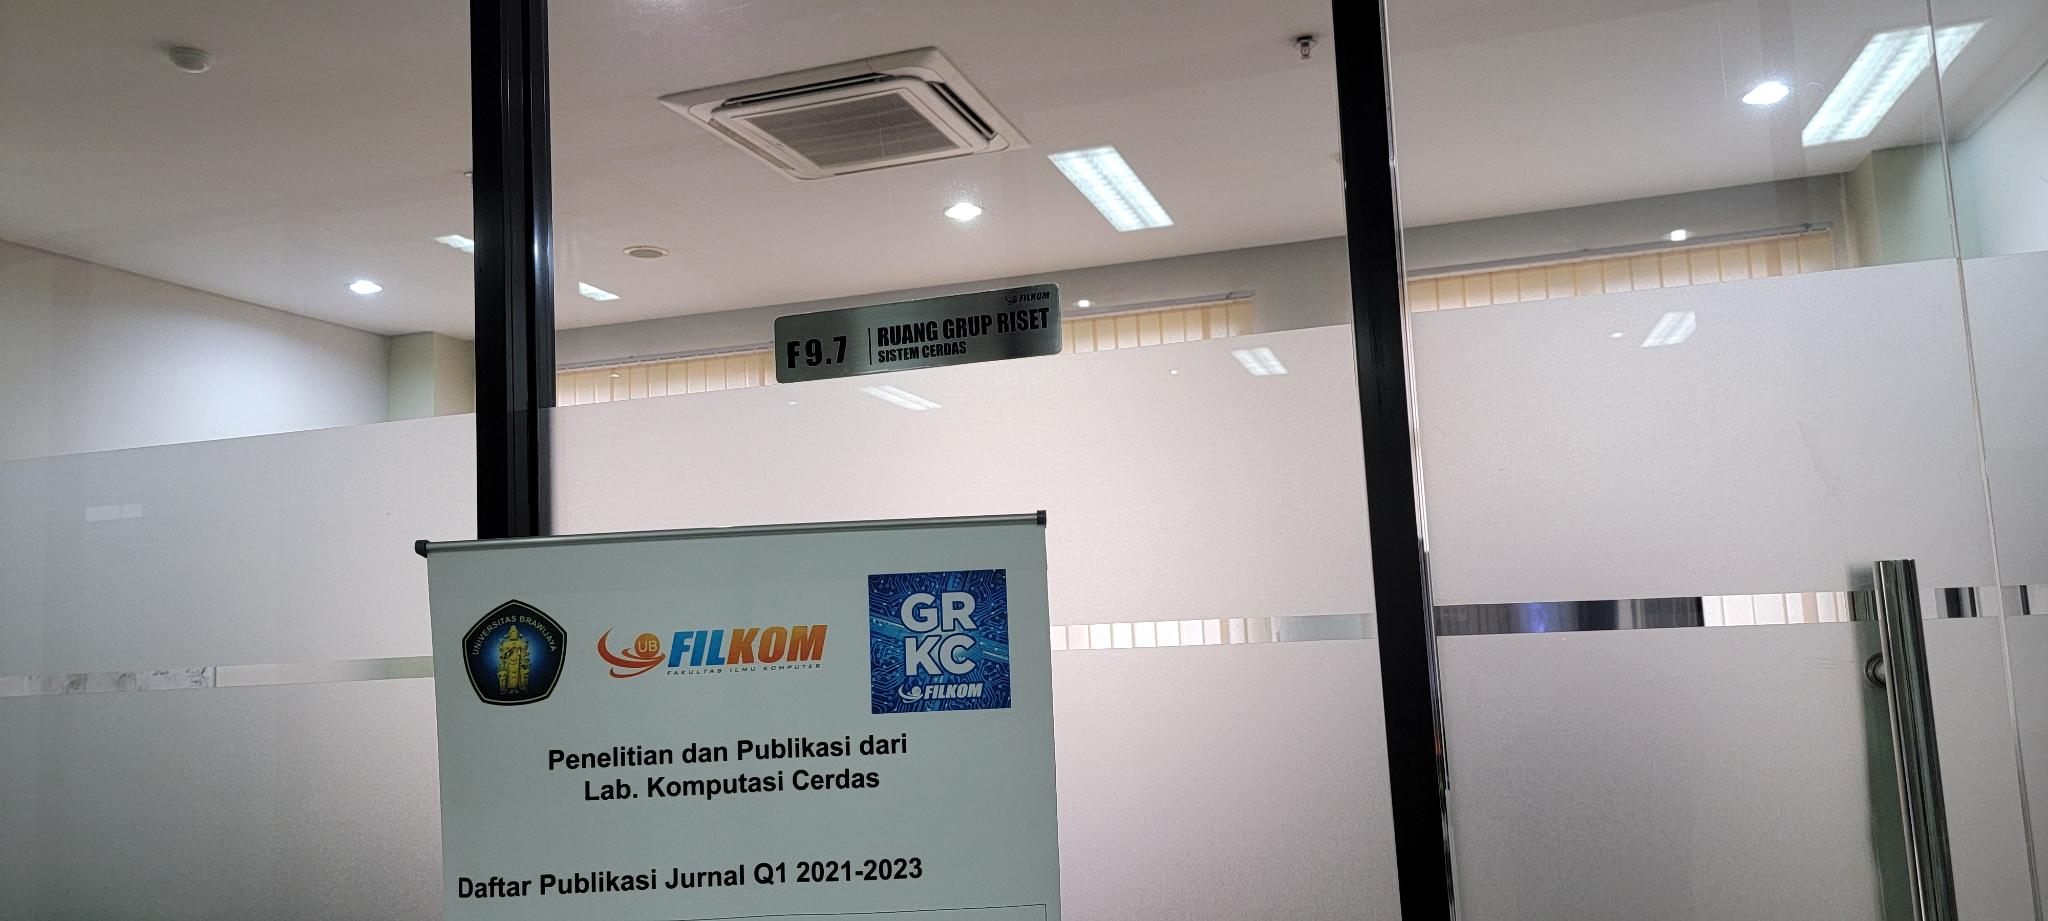plate: (775, 282, 1064, 385)
